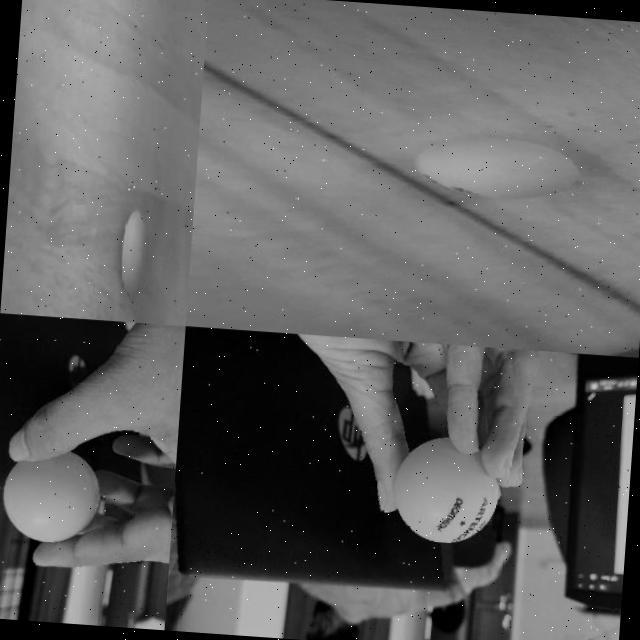ping-pong-ball: (409, 132, 581, 204), (396, 434, 504, 547), (0, 446, 104, 546), (119, 211, 150, 299)
